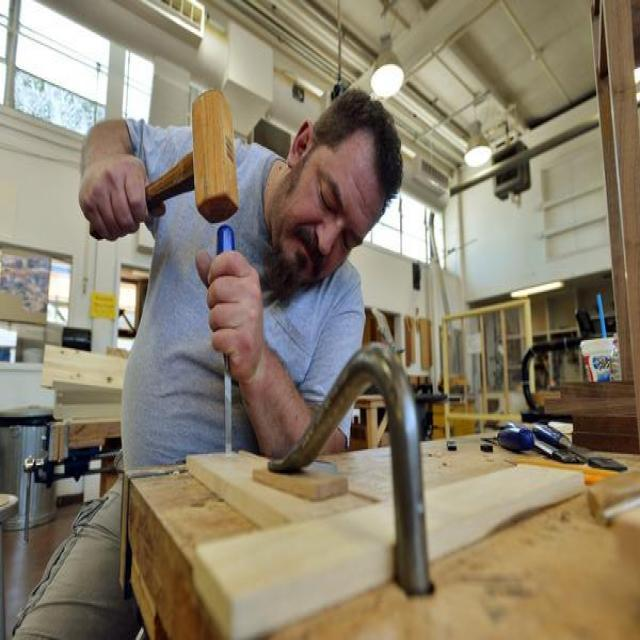hammer: (84, 83, 238, 244)
